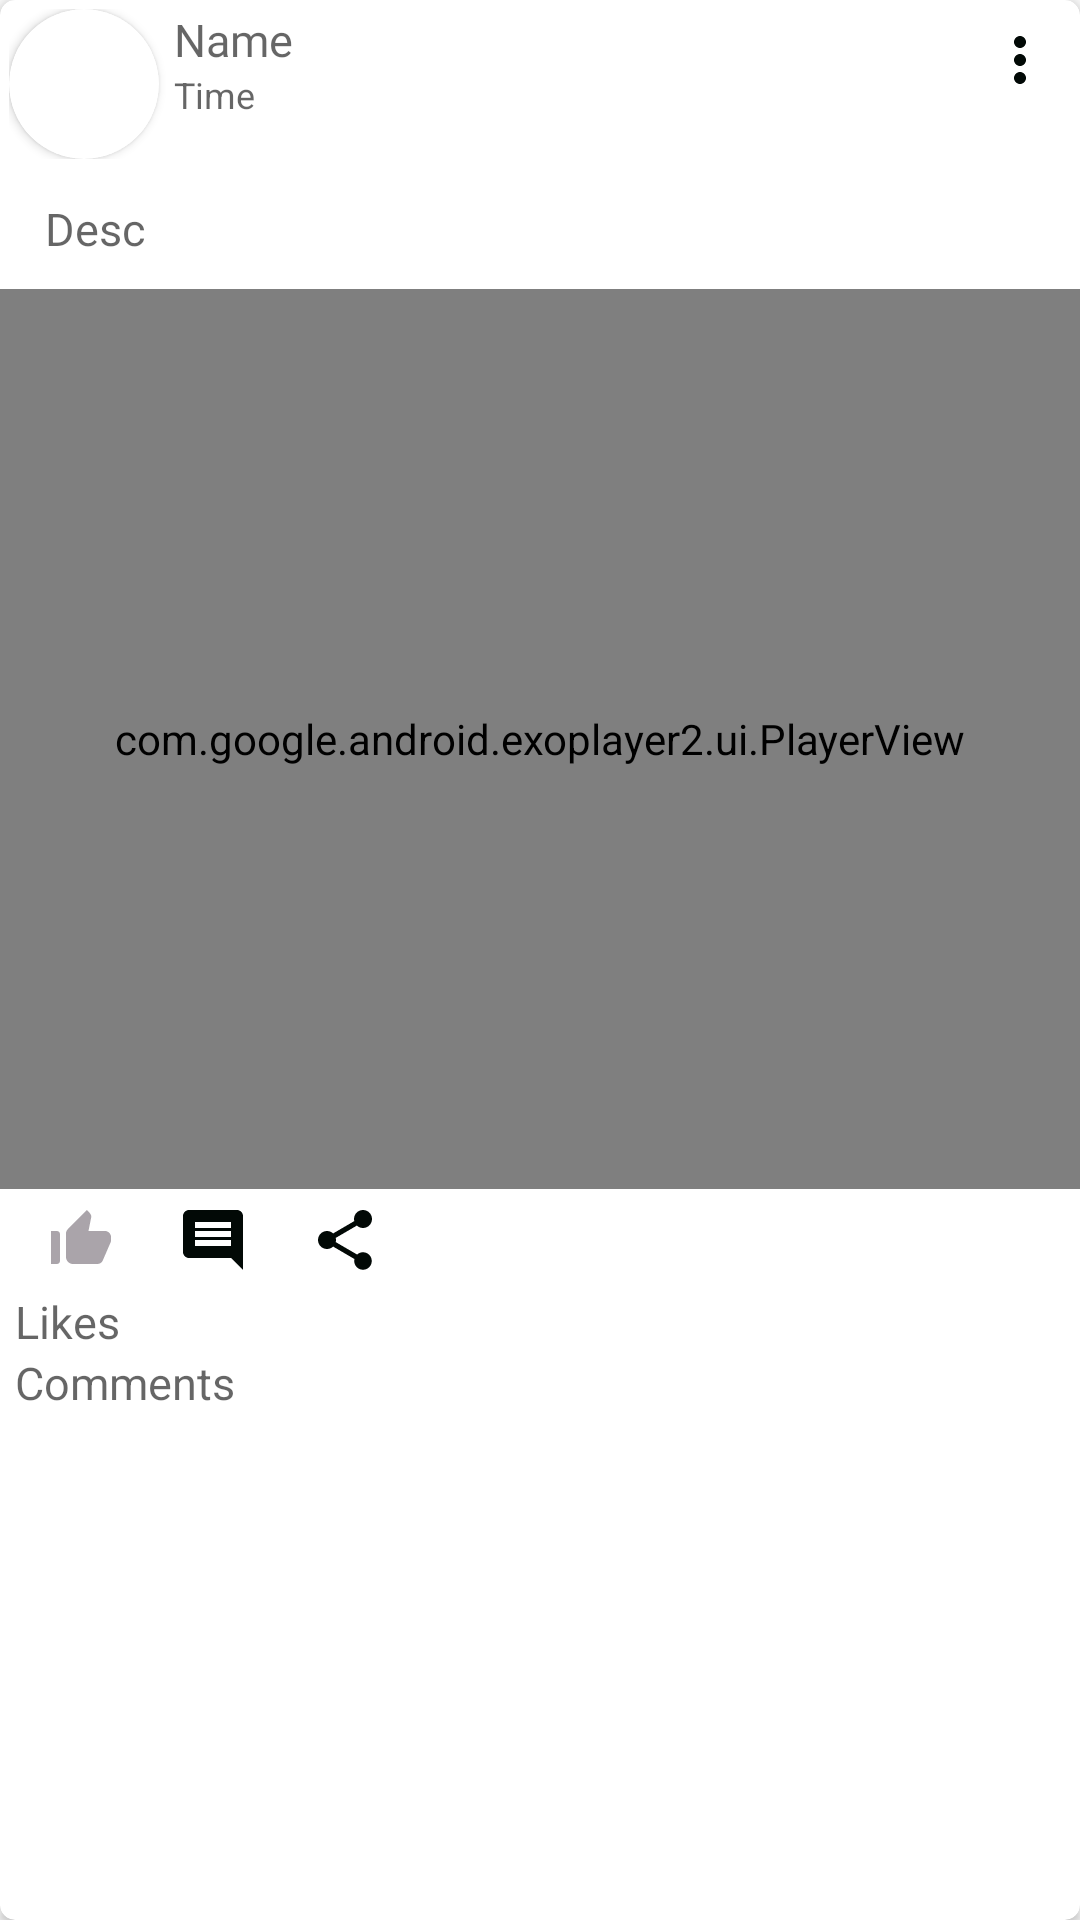

Named icons in this screenshot (1080 × 1920) and their centers, (x=x, y=y):
more vert: (x=1020, y=60)
share: (x=345, y=1240)
